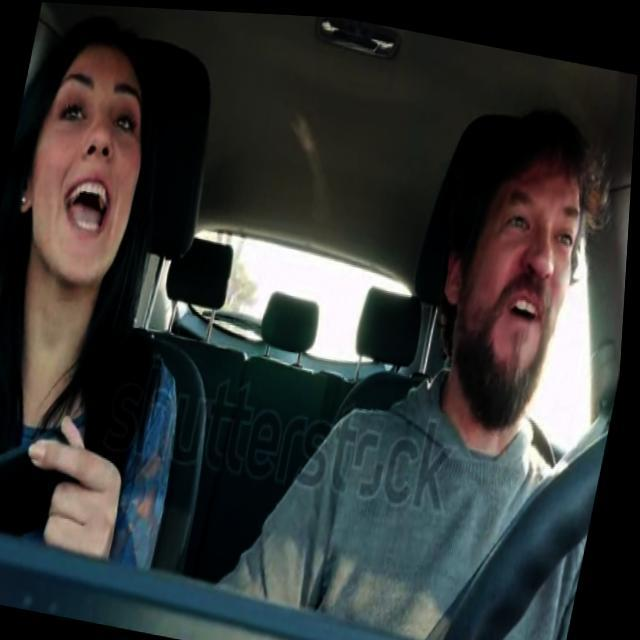PhoneCall: (0, 410, 87, 548)
